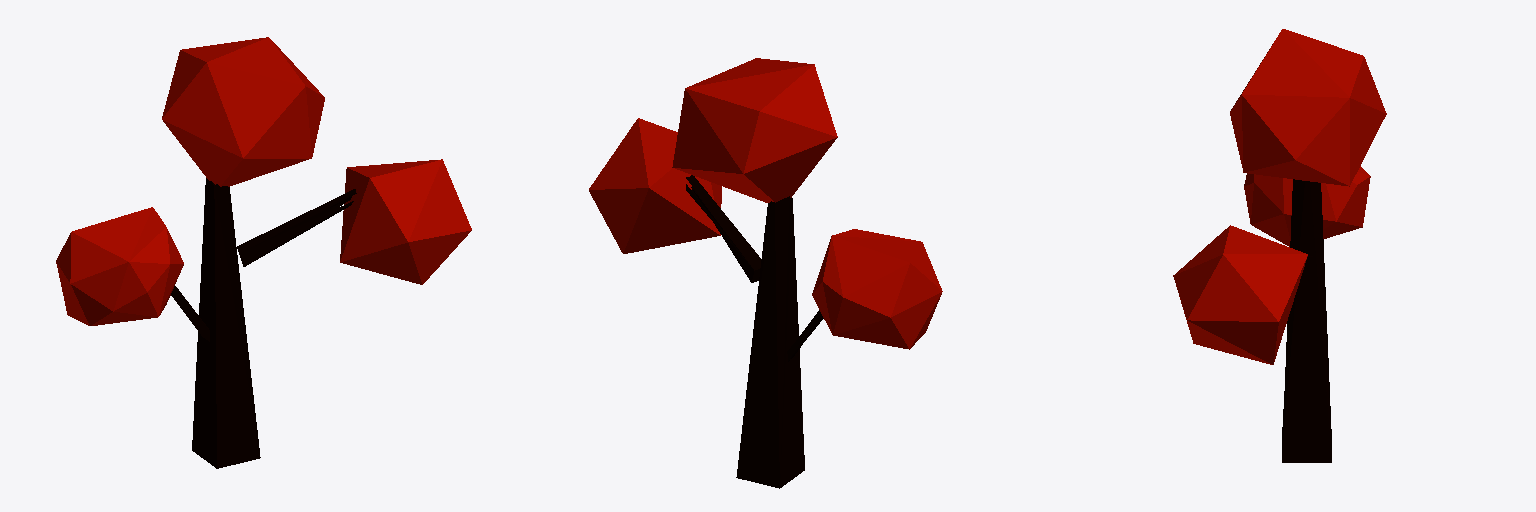
File: autumntree_5.obj
3 views of the same model, side by side, from view 1: azimuth 30°, elevation 25°; view 2: azimuth 150°, elevation 25°; view 3: azimuth 270°, elevation 25° (orthographic).
Visible parts, largest first — view 1: Cube.001_Cube.000; view 2: Cube.001_Cube.000; view 3: Cube.001_Cube.000.
Part boxes in pixels (bbox=[...]): Cube.001_Cube.000: bbox=[56, 37, 471, 468]; Cube.001_Cube.000: bbox=[589, 58, 942, 488]; Cube.001_Cube.000: bbox=[1173, 29, 1386, 462].
Bounding box in the file's own units: 2.29 × 2.48 × 1.17.